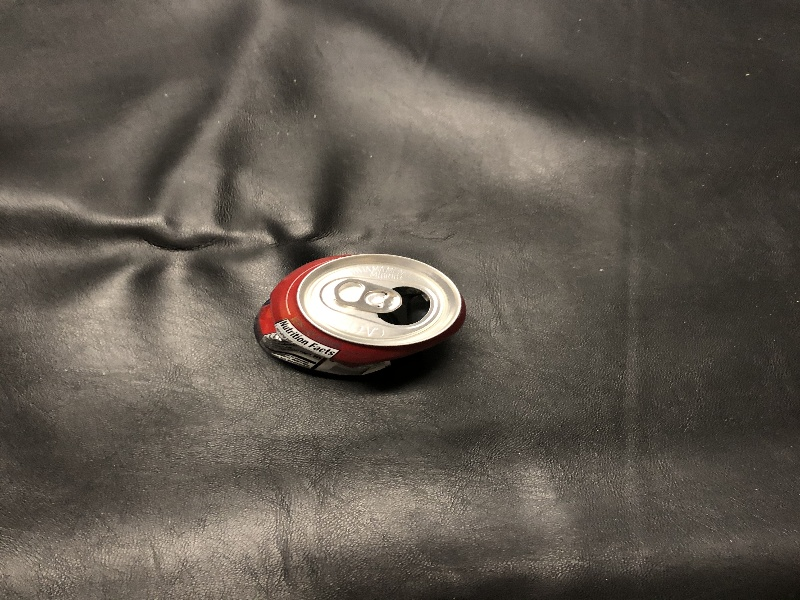metal: (246, 245, 472, 389)
